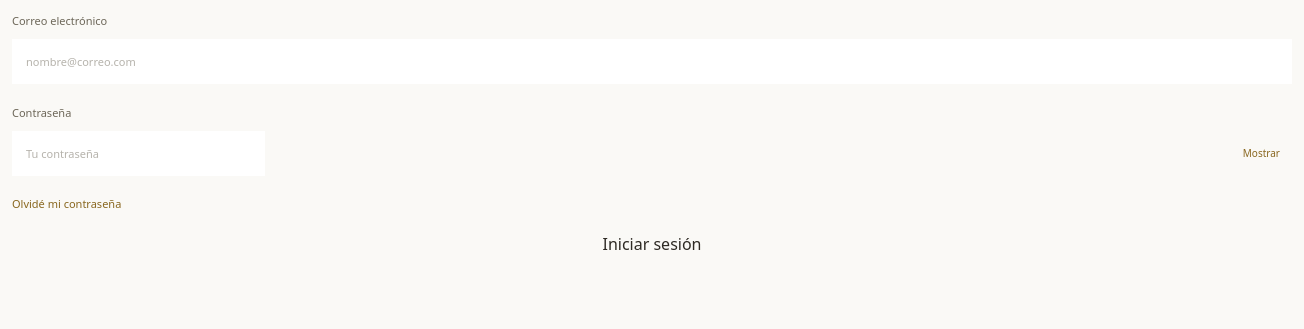
AuthForm › shows server errors and keeps the form open
In the field labelled "Correo electrónico": (652, 61) [12,39,1292,84], type "cliente@example.com"
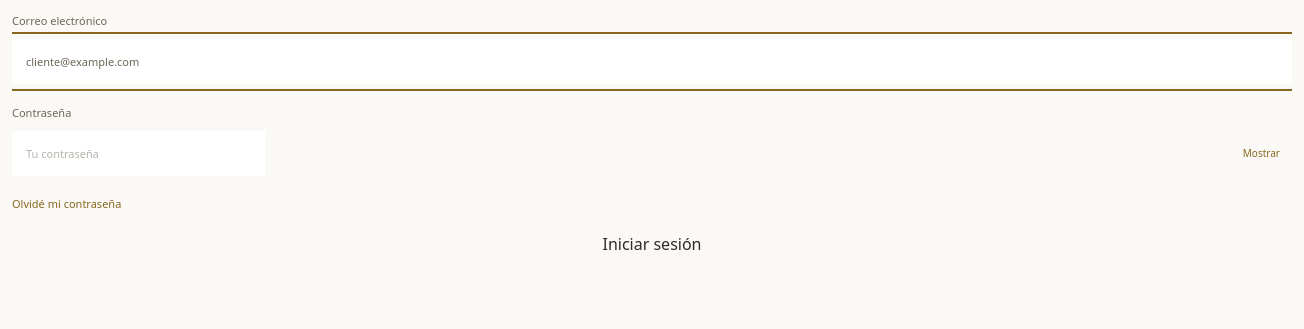
In the password field with placeholder "Tu contraseña": (138, 154) [12,131,265,176], type "wrongpass"
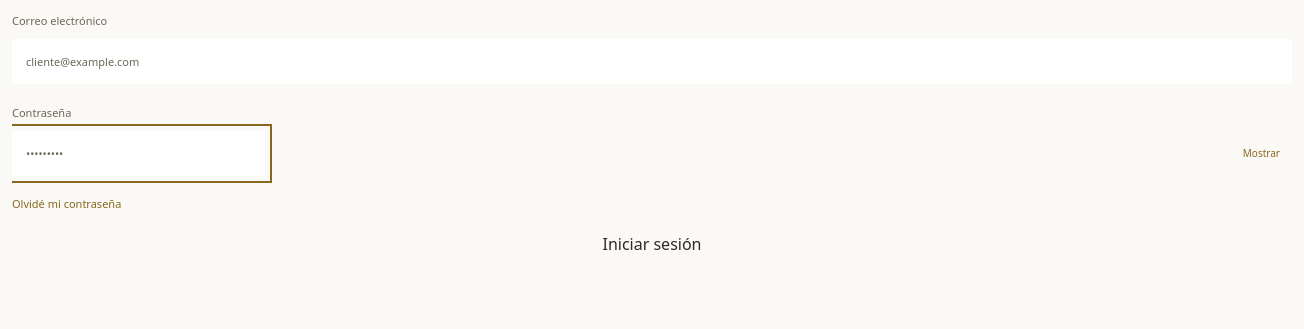
Click the button "Iniciar sesión": (652, 245) [12,232,1292,258]
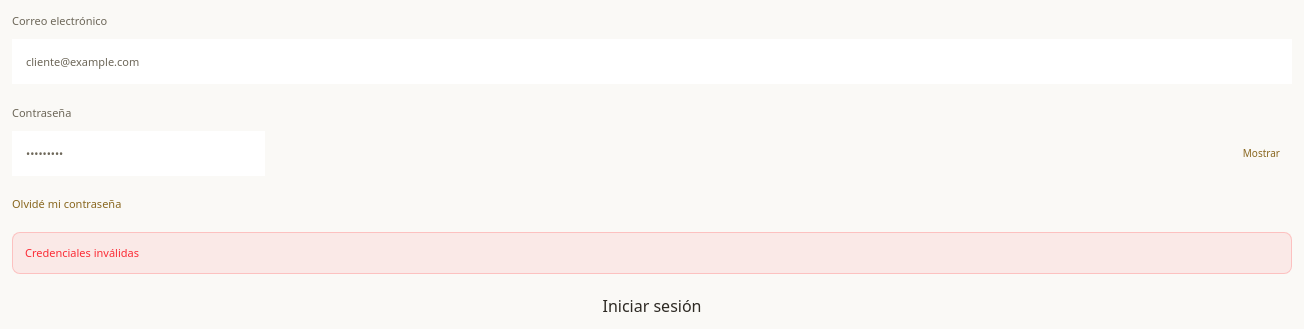
Expected: the message reads "Credenciales inválidas", [25,245,139,260]
